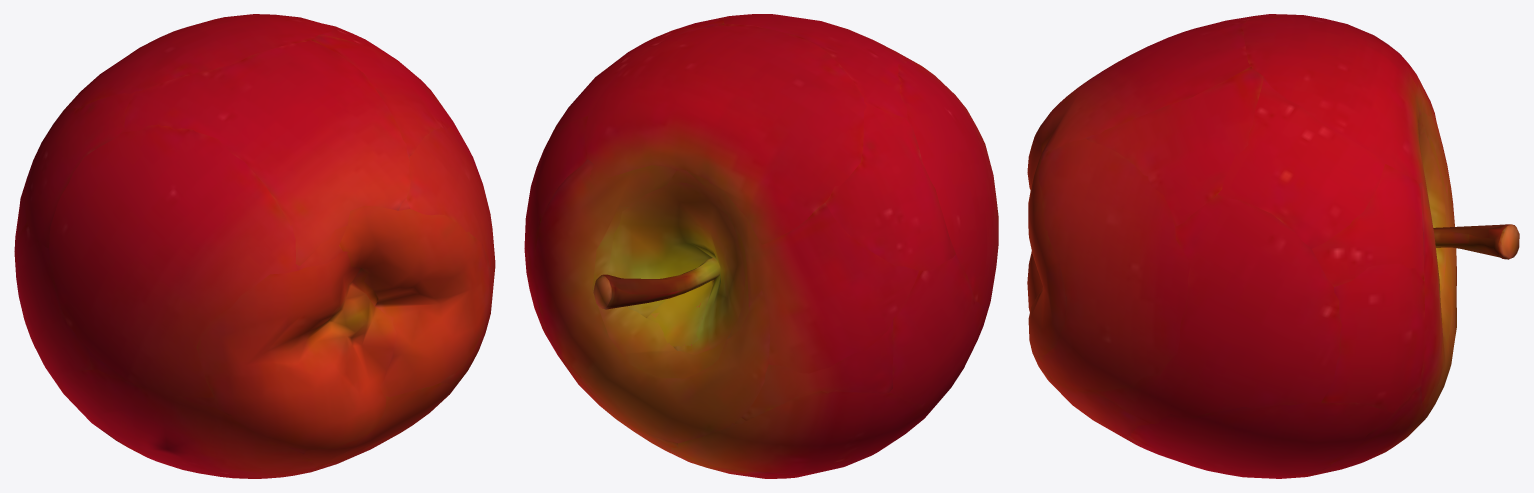
3 renders of one model, left to right at view 1: azimuth 30°, elevation 25°; view 2: azimuth 150°, elevation 25°; view 3: azimuth 270°, elevation 25°, orthographic. The views are drawn at different scales.
Visible parts, largest first — view 1: material; view 2: material; view 3: material.
Part boxes in pixels (x1,y1,x2,y2): material: (14, 14, 495, 478); material: (524, 14, 998, 478); material: (1027, 14, 1519, 478).
Size of the model in its own units: 0.9761 by 0.9467 by 1.
1 material, 1 textured.
